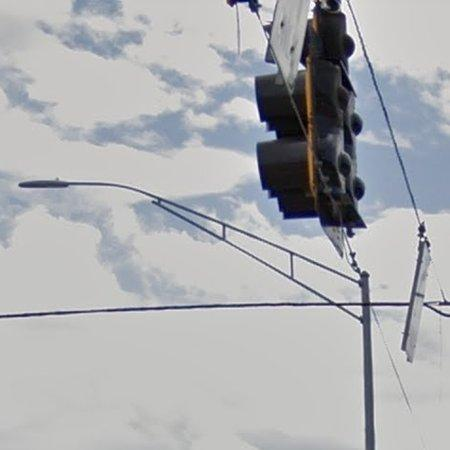traffic lights: (253, 10, 364, 230)
